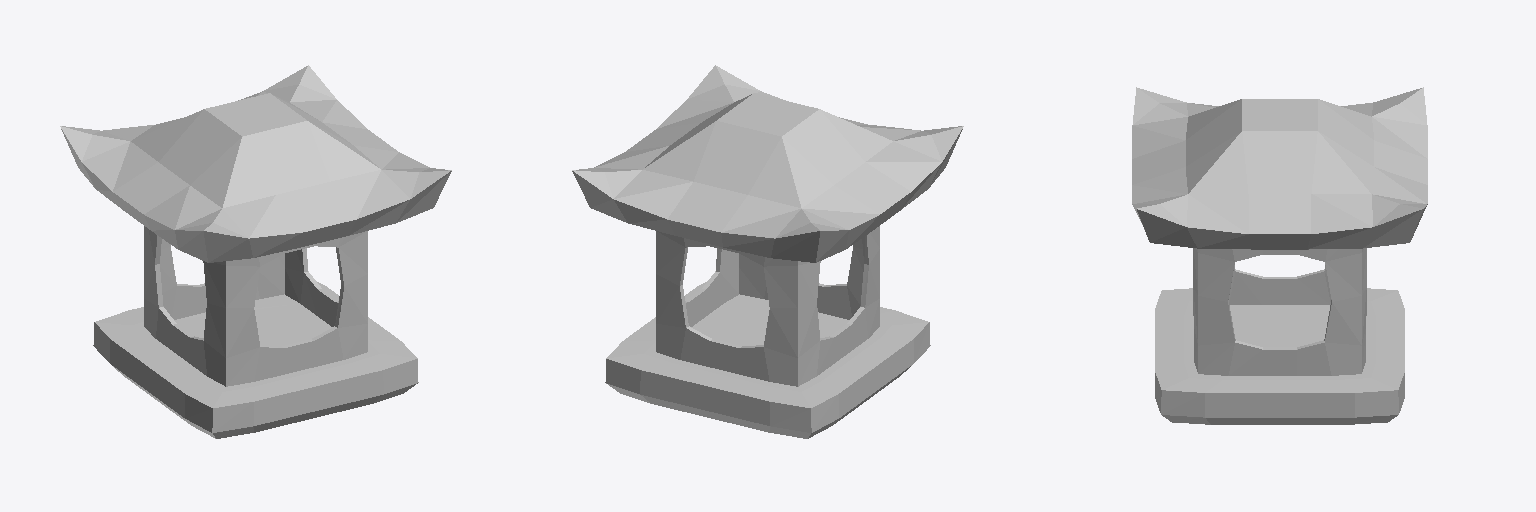
The model's file is Lantern.obj.
3 renders of one model, left to right at view 1: azimuth 30°, elevation 25°; view 2: azimuth 150°, elevation 25°; view 3: azimuth 270°, elevation 25°, orthographic.
Parts seen in each view (by area): view 1: Plane; view 2: Plane; view 3: Plane.
Part boxes in pixels (x1,y1,x2,y2): Plane: (60,65,451,438); Plane: (572,65,963,438); Plane: (1132,87,1427,424).
Size of the model in its own units: 0.45 by 0.475 by 0.45.